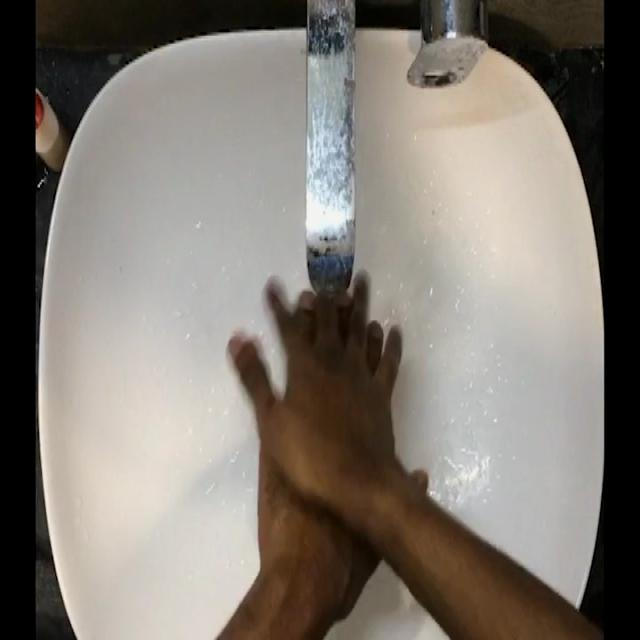step_2: (220, 253, 434, 562)
